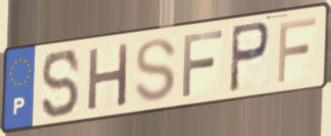F: (180, 27, 226, 100), (274, 15, 318, 85)
H: (85, 40, 132, 114)
P: (227, 19, 272, 95)
S: (133, 36, 179, 105), (40, 47, 82, 121)
